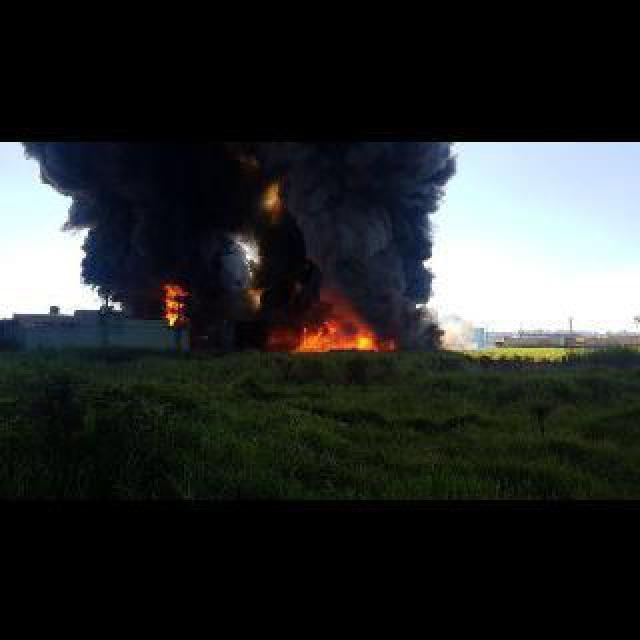Fire: (288, 310, 398, 354), (158, 278, 190, 328)
Smoke: (250, 140, 438, 322), (74, 140, 254, 282), (12, 142, 72, 222), (440, 140, 468, 196)
